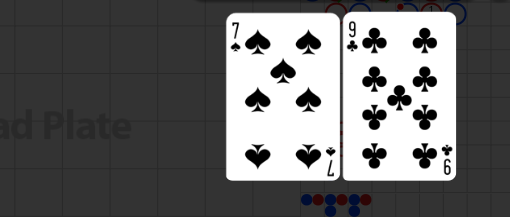7S: (324, 145, 337, 178)
9C: (439, 142, 453, 176)
